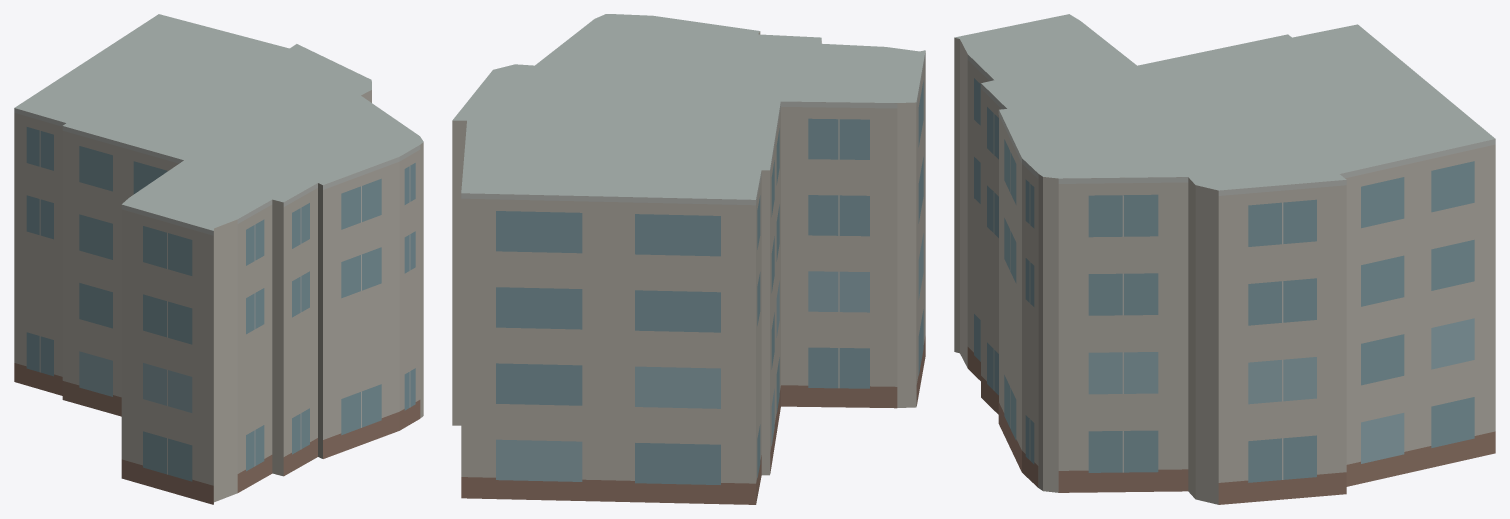
Rendered from survey-upis-32781154.glb.
The picture shows the model from 3 angles, left to right: view 1: azimuth 30°, elevation 25°; view 2: azimuth 150°, elevation 25°; view 3: azimuth 270°, elevation 25°; orthographic projection. The views are drawn at different scales.
Visible parts, largest first — view 1: survey-upis-32781154.tmp; view 2: survey-upis-32781154.tmp; view 3: survey-upis-32781154.tmp.
Part boxes in pixels (bbox=[...]): survey-upis-32781154.tmp: bbox=[14, 14, 423, 504]; survey-upis-32781154.tmp: bbox=[452, 14, 925, 504]; survey-upis-32781154.tmp: bbox=[954, 14, 1495, 504].
Size of the model in its own units: 16.75 by 13.9 by 21.71.
